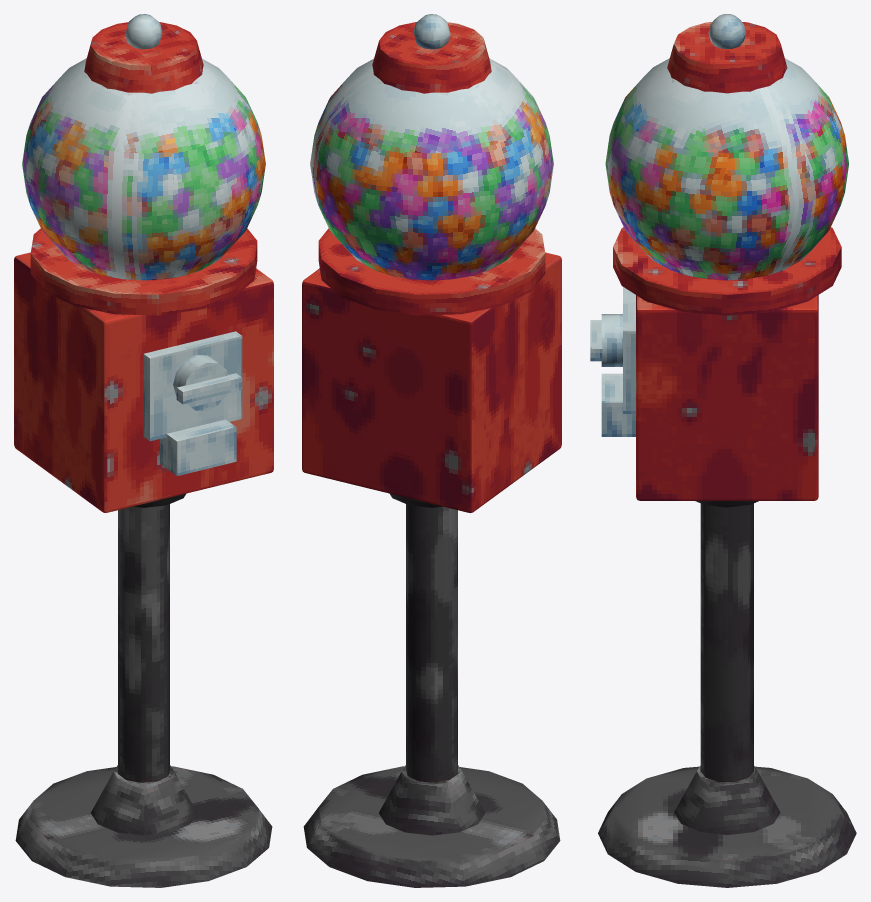
The model's file is gumball_own.glb.
3 renders of one model, left to right at view 1: azimuth 30°, elevation 25°; view 2: azimuth 150°, elevation 25°; view 3: azimuth 270°, elevation 25°, orthographic.
Visible parts, largest first — view 1: mesh; view 2: mesh; view 3: mesh.
Boxes of the visible parts, x1,y1,x2,y2 form: mesh: (14, 14, 273, 887); mesh: (302, 14, 561, 887); mesh: (590, 14, 856, 887).
Bounding box in the file's own units: 0.3443 × 1.2 × 0.3544.
1 material, 1 textured.
